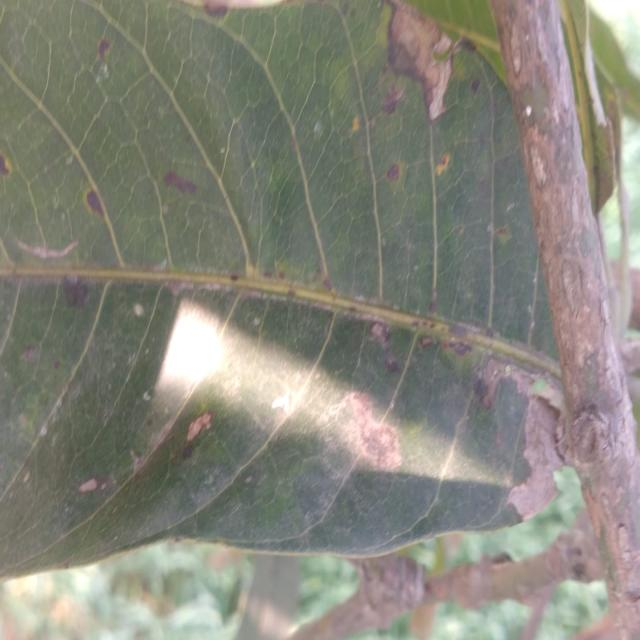Anthracnose: (164, 160, 201, 205), (77, 183, 109, 220), (93, 32, 115, 63)
Bacterial Cancer: (386, 9, 461, 126), (512, 388, 558, 524)
black die: (60, 275, 91, 308)
